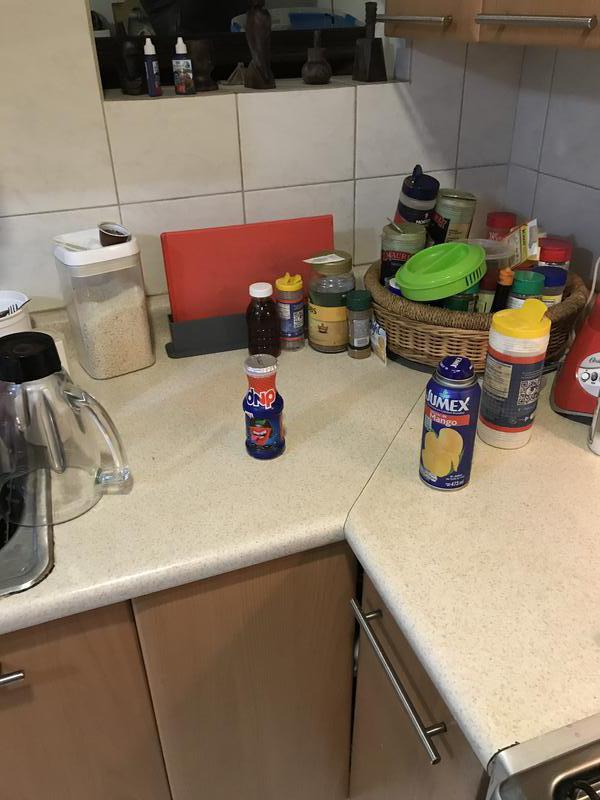danup: (242, 352, 289, 464)
jugo_jumex: (421, 357, 479, 494)
